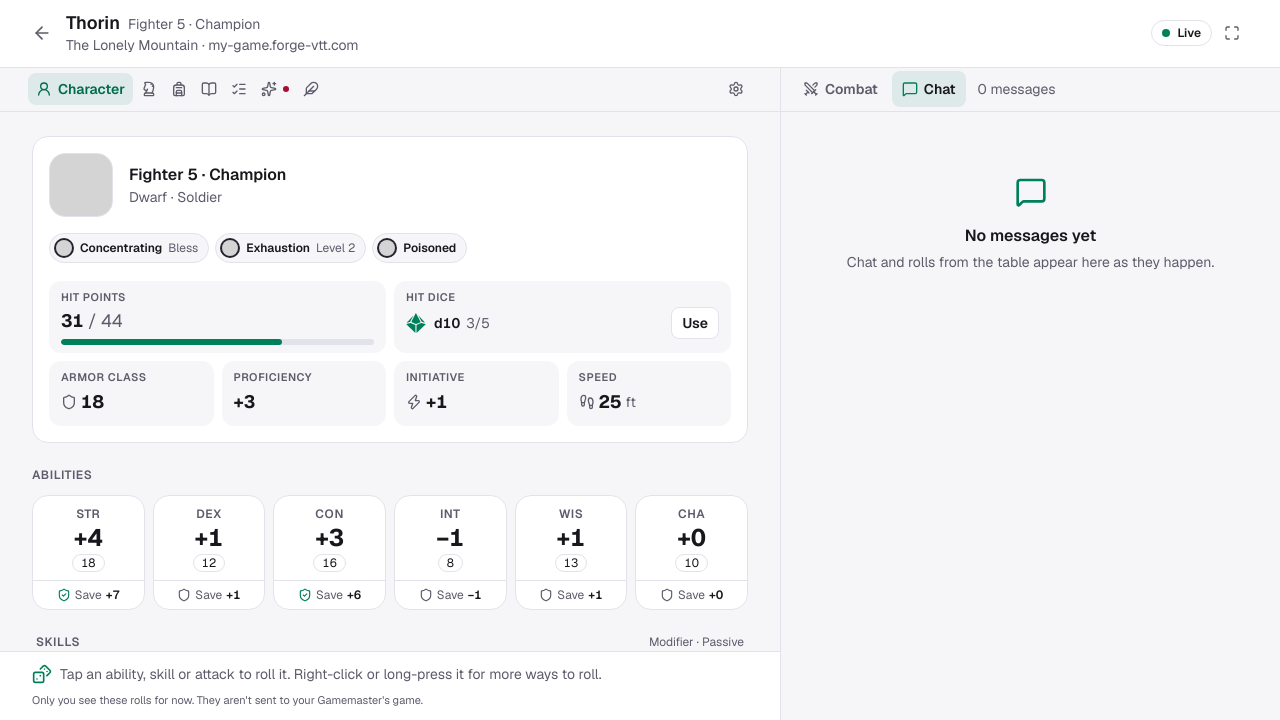
Test: components/game-table, favorites from the app, from module 0.37.0 › adds an item to the favorites from its row through the seat, with Send to the table off, saying so in the tray
This screenshot has width=1280, height=720.
Click the tab named "Inventory": x=179, y=89 left=165, top=73, right=193, bottom=105
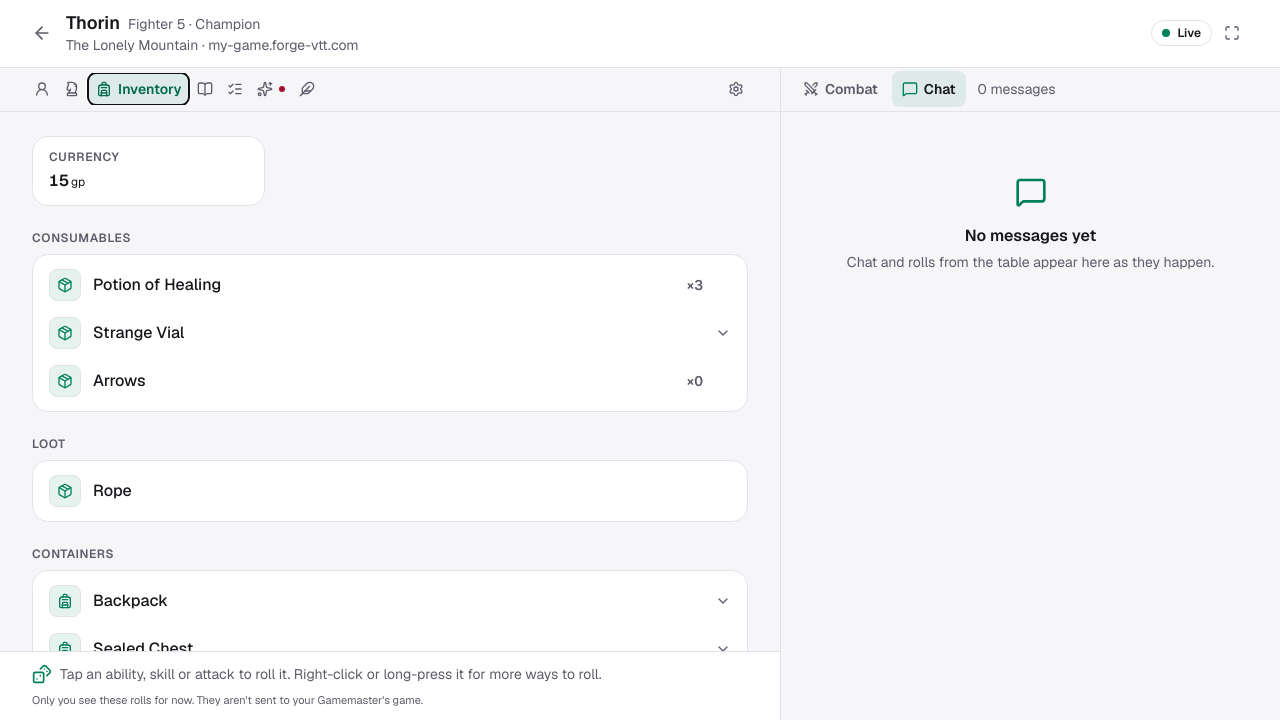
Right-click the element showing "Rope": x=90, y=490 left=49, top=474, right=132, bottom=506
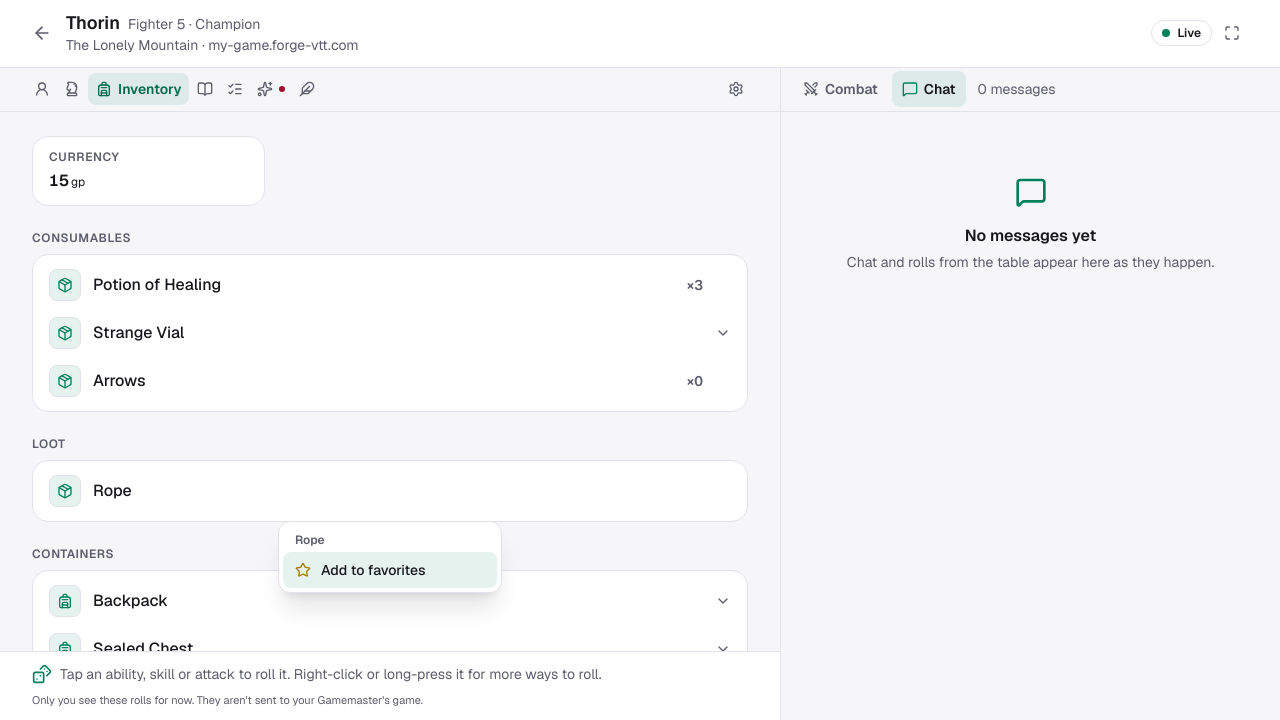
Now the menu items read "Add to favorites", in this order
Click the menu item "Add to favorites": x=390, y=570 left=283, top=552, right=497, bottom=588
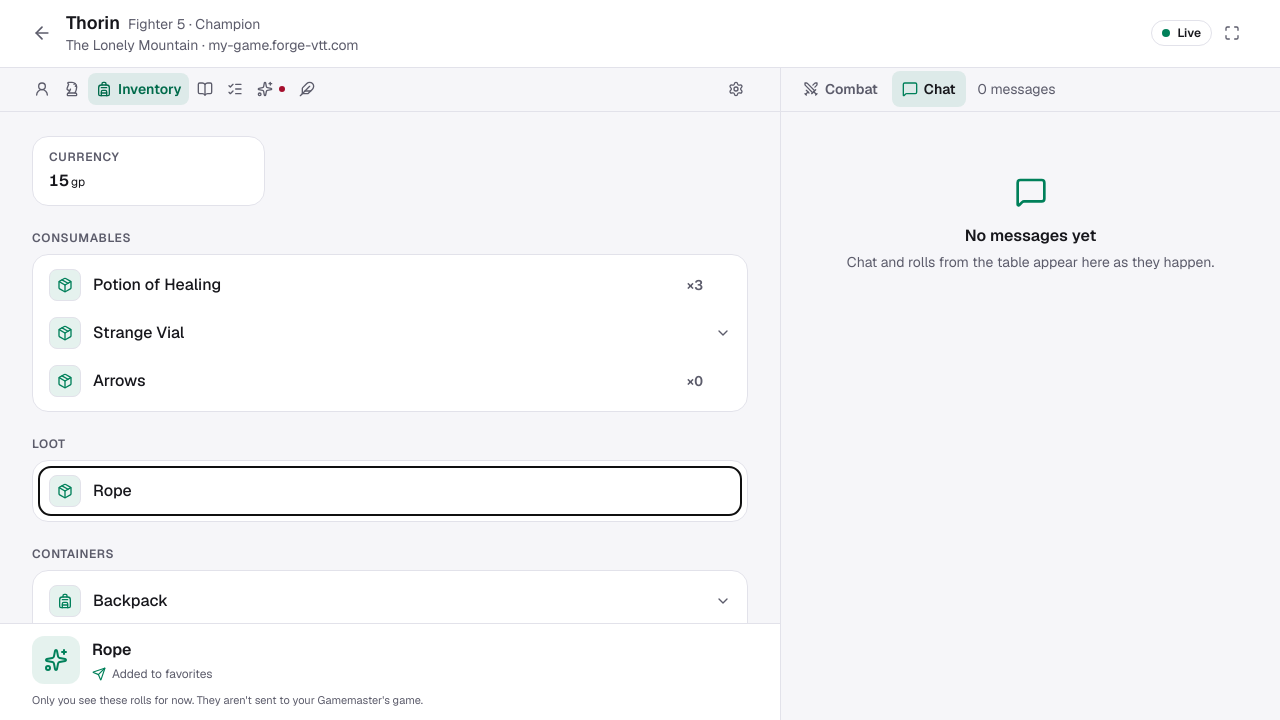
Now the text "Added to favorites" is shown, box left=112, top=666, right=213, bottom=682
